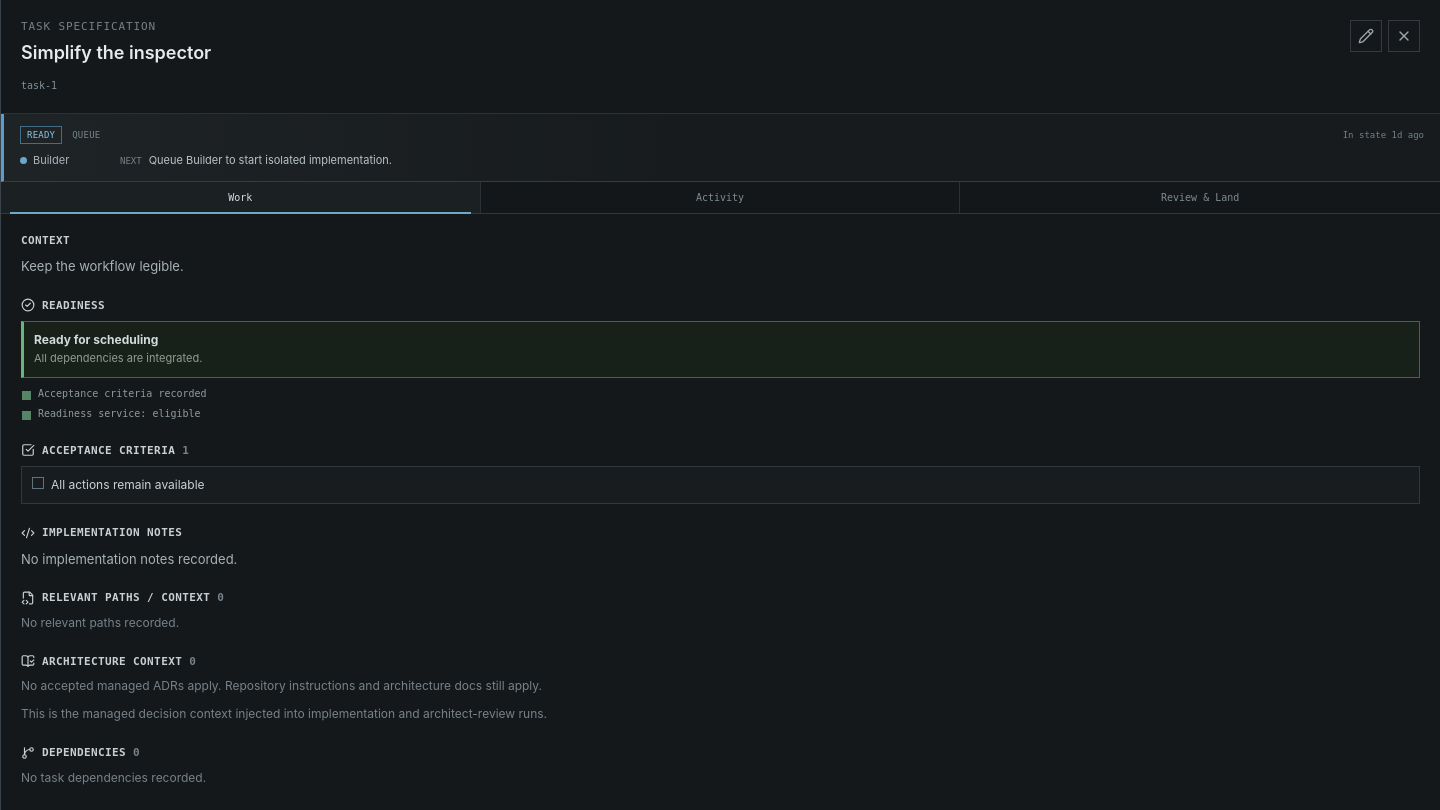
Test: TaskDetailPanel phase tabs › opens queue tasks on Work and keeps the run action reachable from Activity
Expected: the text "Queue Builder to start isolated implementation." is shown, [149,153,392,167]
Click the tab "Activity".
click(721, 198)  # box [481,182,960,213]
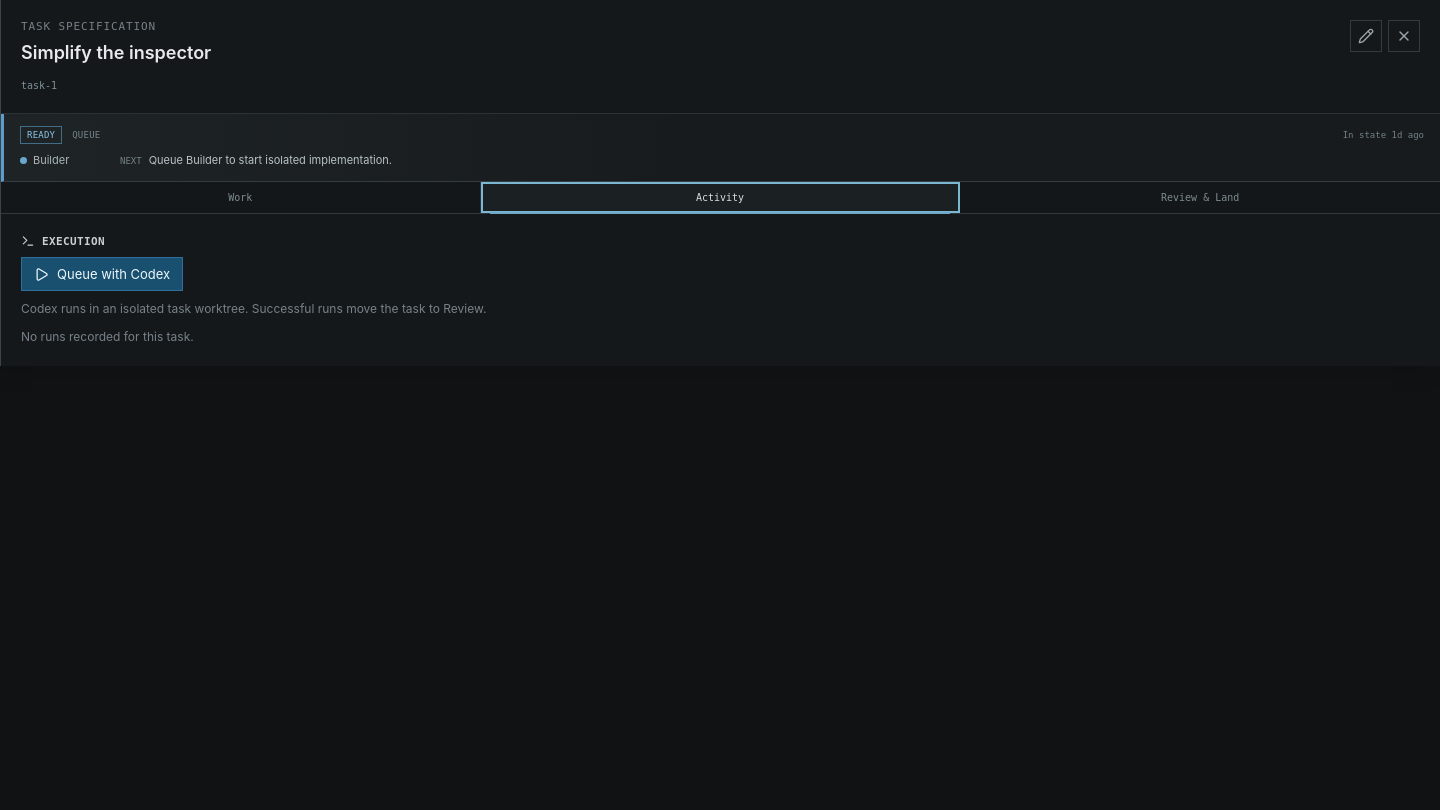
Expected: the button "Queue with Codex" is shown, [21,257,183,291]
